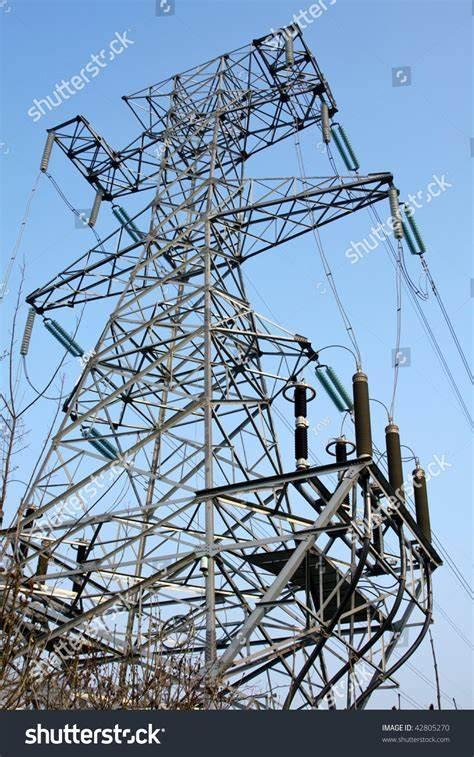power_tower: (0, 19, 422, 714)
